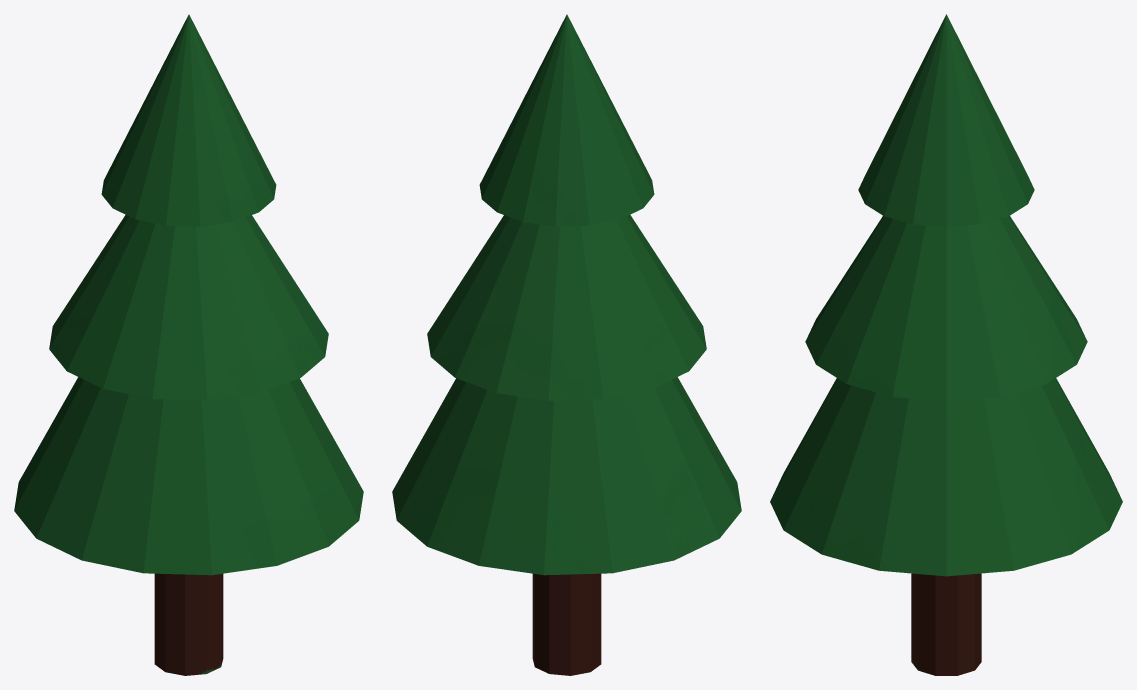
The model's file is Pine.fbx.
The picture shows the model from 3 angles, left to right: view 1: azimuth 30°, elevation 25°; view 2: azimuth 150°, elevation 25°; view 3: azimuth 270°, elevation 25°; orthographic projection.
Parts seen in each view (by area): view 1: Pine; view 2: Pine; view 3: Pine.
Boxes of the visible parts, x1=… form: Pine: x1=14, y1=14, x2=363, y2=675; Pine: x1=392, y1=14, x2=741, y2=675; Pine: x1=770, y1=14, x2=1122, y2=675.
Size of the model in its own units: 20 by 40.5 by 20.
